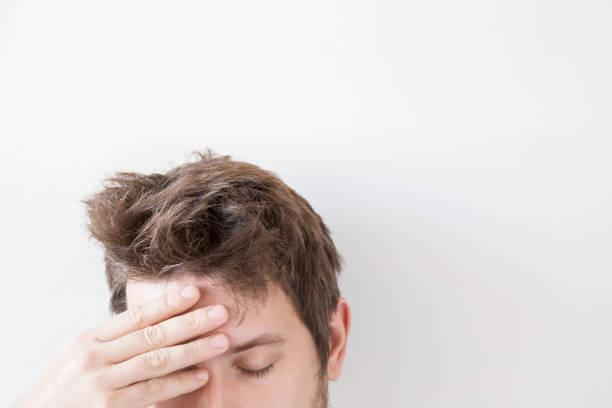dry hair: (211, 251, 264, 291), (219, 188, 256, 232), (157, 211, 184, 262), (95, 198, 142, 226), (113, 248, 144, 278), (271, 219, 290, 265), (171, 177, 202, 204), (195, 217, 211, 241)
